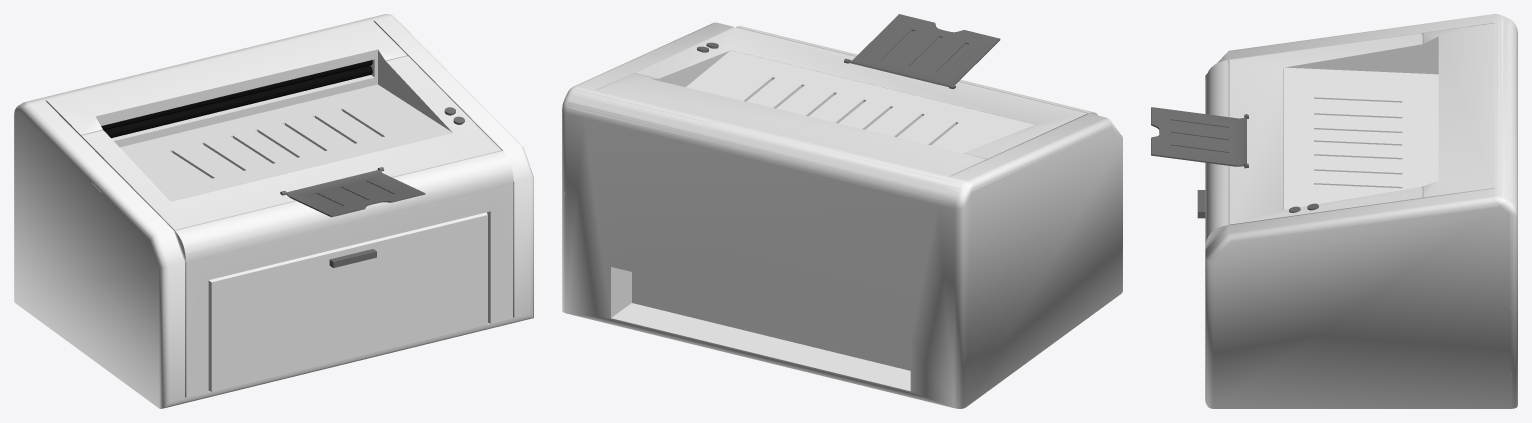
Rendered from Printer.FBX.
3 views of the same model, side by side, from view 1: azimuth 30°, elevation 25°; view 2: azimuth 150°, elevation 25°; view 3: azimuth 270°, elevation 25° (orthographic). The views are drawn at different scales.
Parts seen in each view (by area): view 1: printer 1; view 2: printer 1; view 3: printer 1.
Part boxes in pixels (box(x1,y1,x2,y2)): printer 1: box(14, 14, 533, 408); printer 1: box(562, 14, 1122, 408); printer 1: box(1151, 14, 1517, 408).
Bounding box in the file's own units: 405 × 214 × 334.
1 material, 1 textured.
